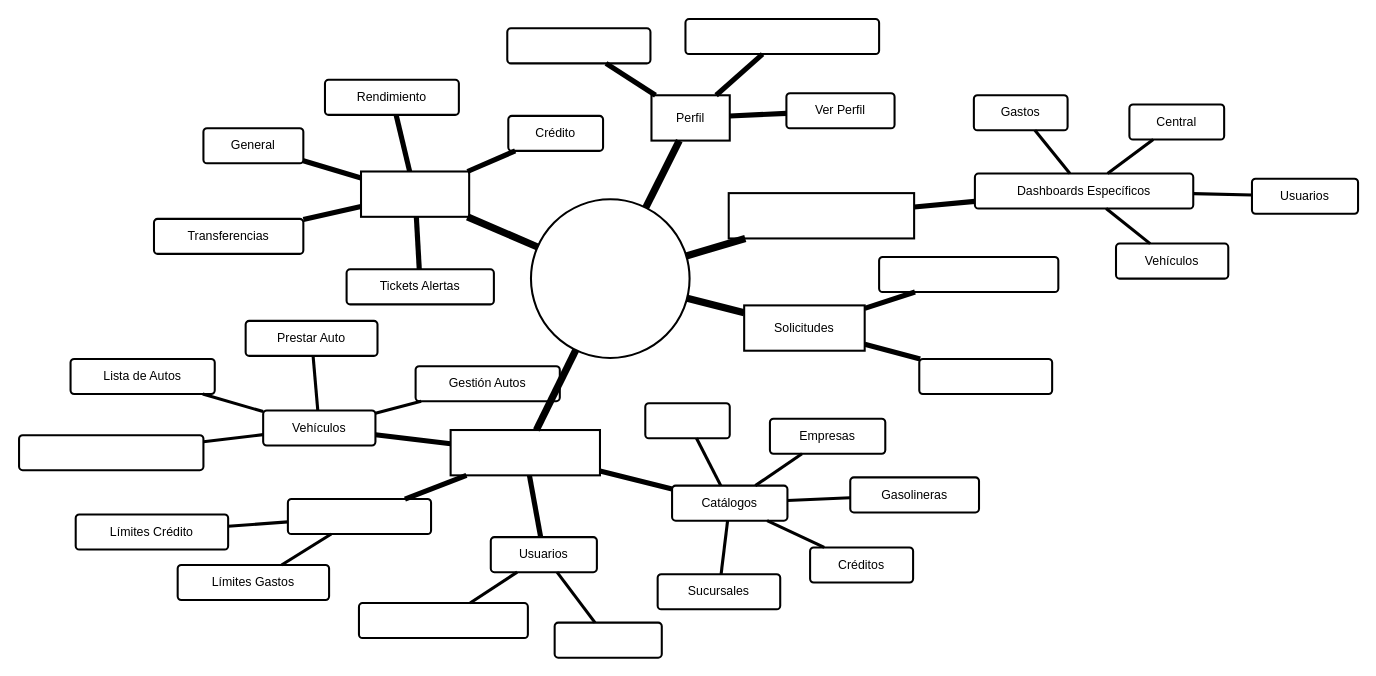
Image size: 1376x676. Some labels were removed from this diagram. The shapes that lost their labels are listed below. From the top down, each one's centre as x and y in pixels, then its label:
At pixel 578 45: "Cerrar Sesión".
At pixel 782 36: "Cambiar Contraseña".
At pixel 414 193: "Reportes".
At pixel 821 215: "Dashboard General".
At pixel 609 278: "ADMINISTRADOR".
At pixel 968 274: "Galería Evidencias".
At pixel 985 375: "Contabilidad".
At pixel 687 420: "Áreas".
At pixel 111 452: "Historial Prestamos".
At pixel 524 452: "Administración".
At pixel 359 516: "Configuración".
At pixel 442 620: "Lista de Usuarios".
At pixel 607 639: "Papelera".
